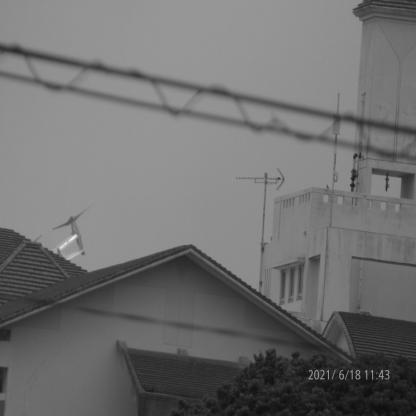V22: (35, 205, 95, 263)
